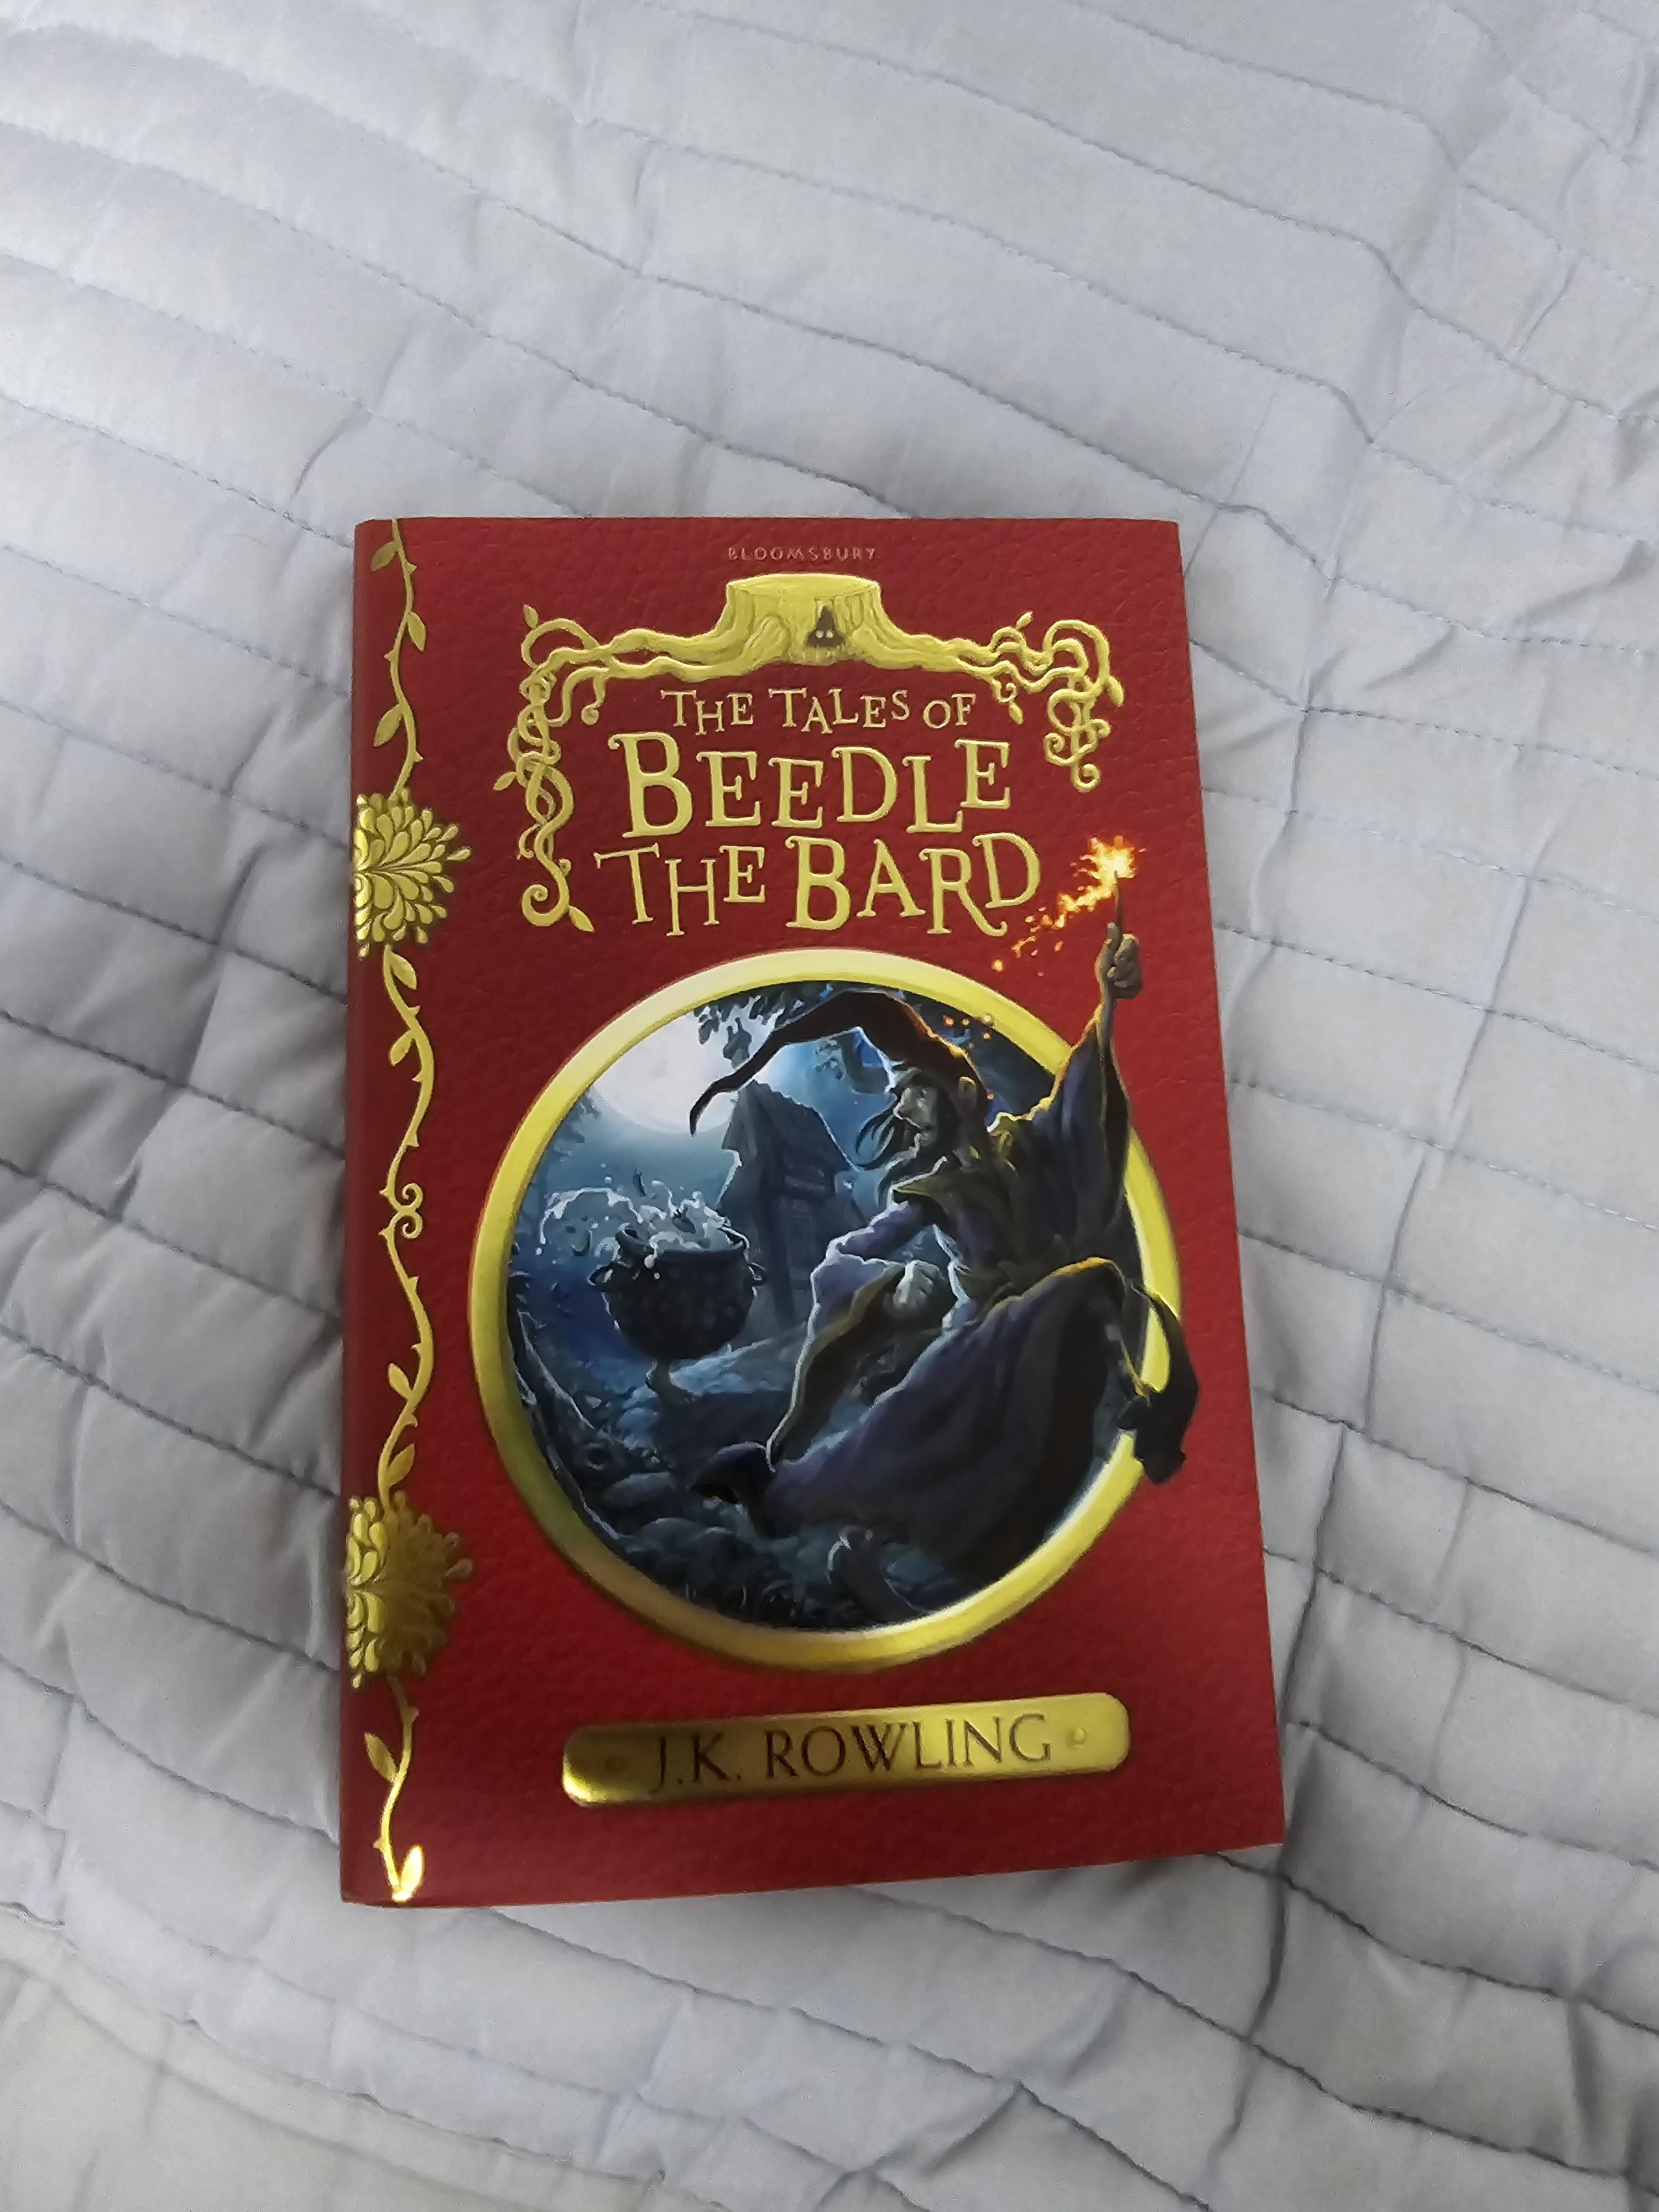book: (336, 514, 1288, 1909)
